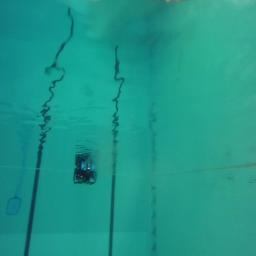front: (72, 168, 96, 184)
